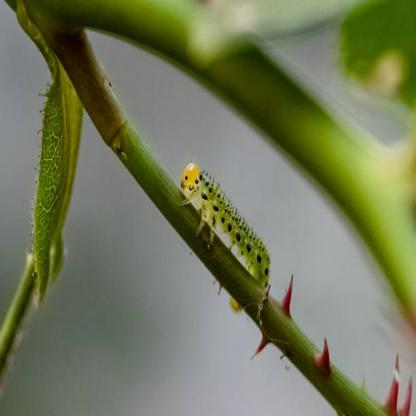sawfly: (169, 160, 271, 296)
